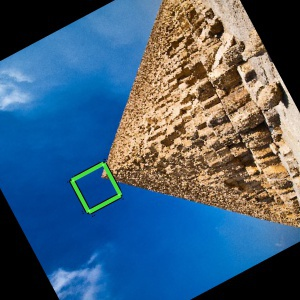square: (68, 160, 125, 217)
